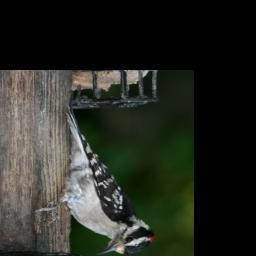Woodpecker: (34, 104, 155, 256)
